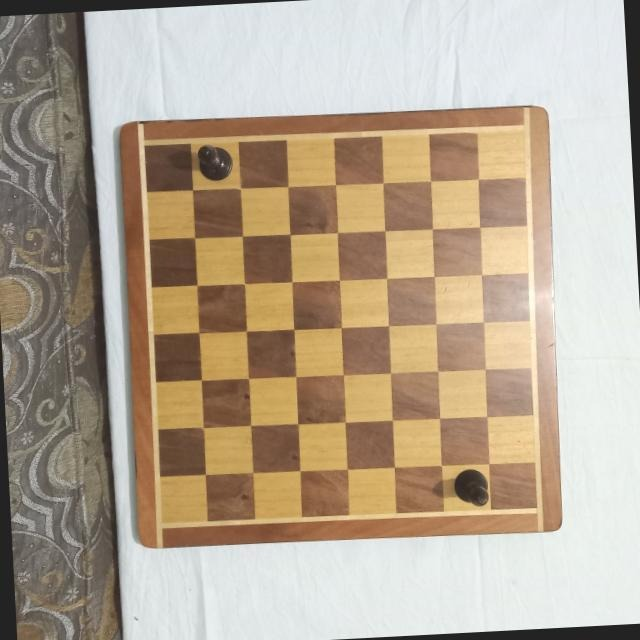black-bishop: (194, 141, 234, 183), (451, 467, 490, 509)
